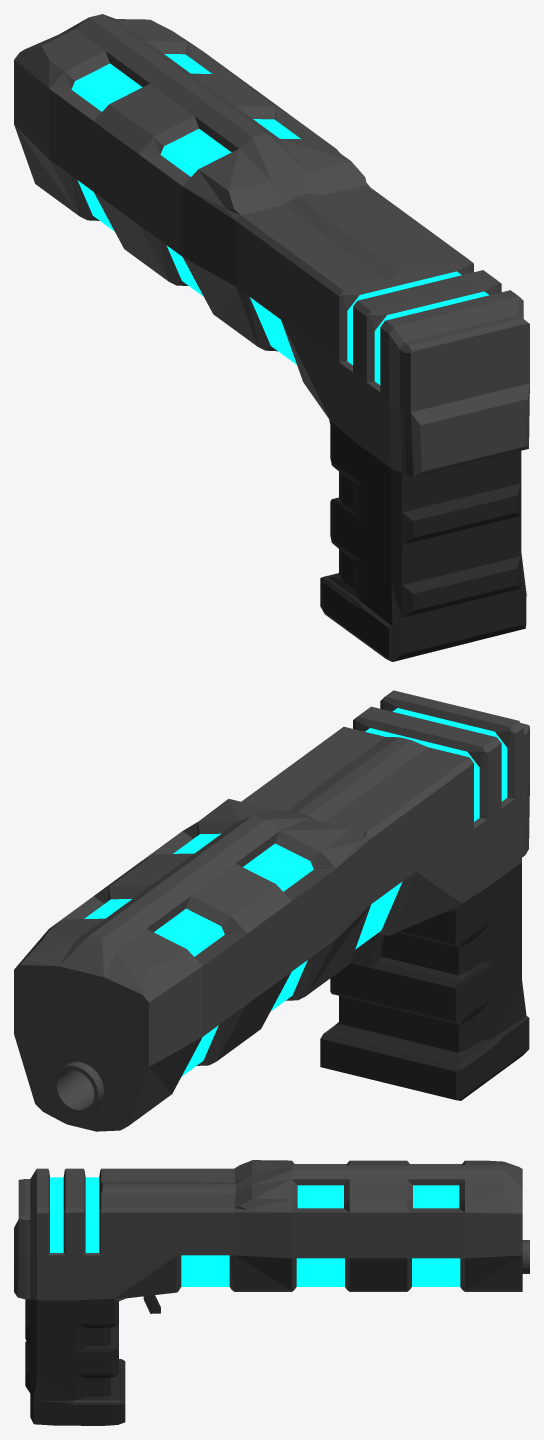
Rendered from gun.fbx.
The picture shows the model from 3 angles, top to bottom: view 1: azimuth 30°, elevation 25°; view 2: azimuth 150°, elevation 25°; view 3: azimuth 270°, elevation 25°; orthographic projection. The views are drawn at different scales.
Visible parts, largest first — view 1: Cube; view 2: Cube; view 3: Cube.
Boxes of the visible parts, x1,y1,x2,y2 form: Cube: (14, 14, 529, 661); Cube: (14, 690, 529, 1131); Cube: (14, 1160, 529, 1425).
Bounding box in the file's own units: 228 × 522 × 1023.
